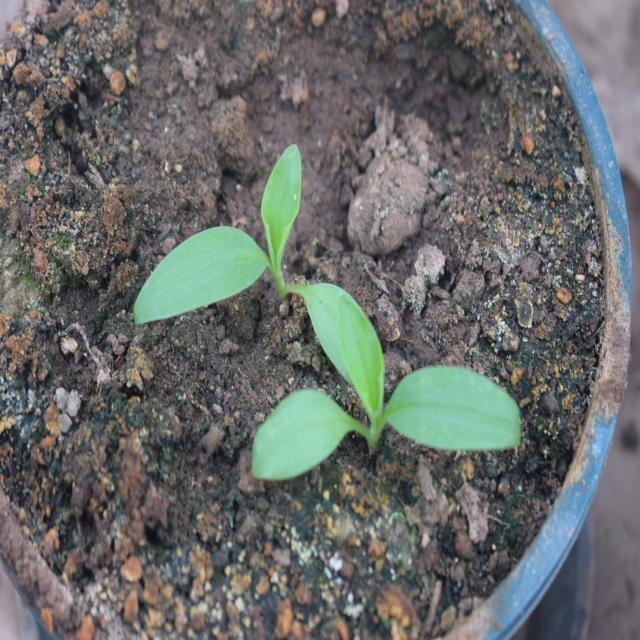Common Dayflower: (261, 296, 526, 506), (117, 148, 356, 336)
